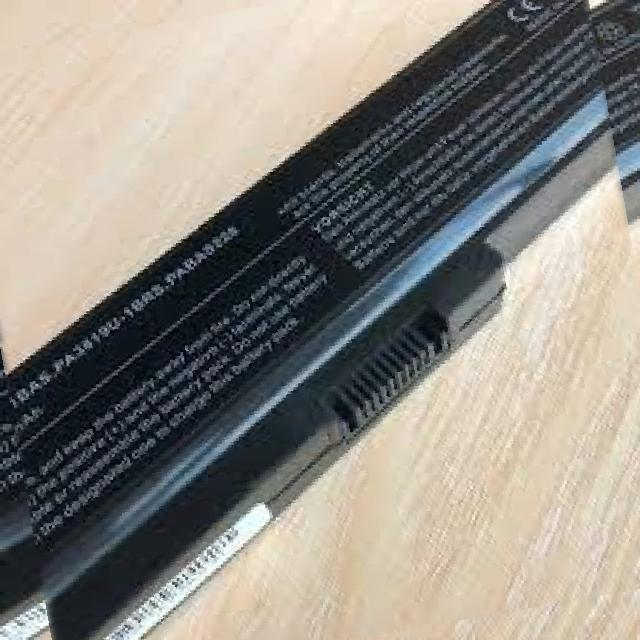Battery: (3, 6, 640, 639)
